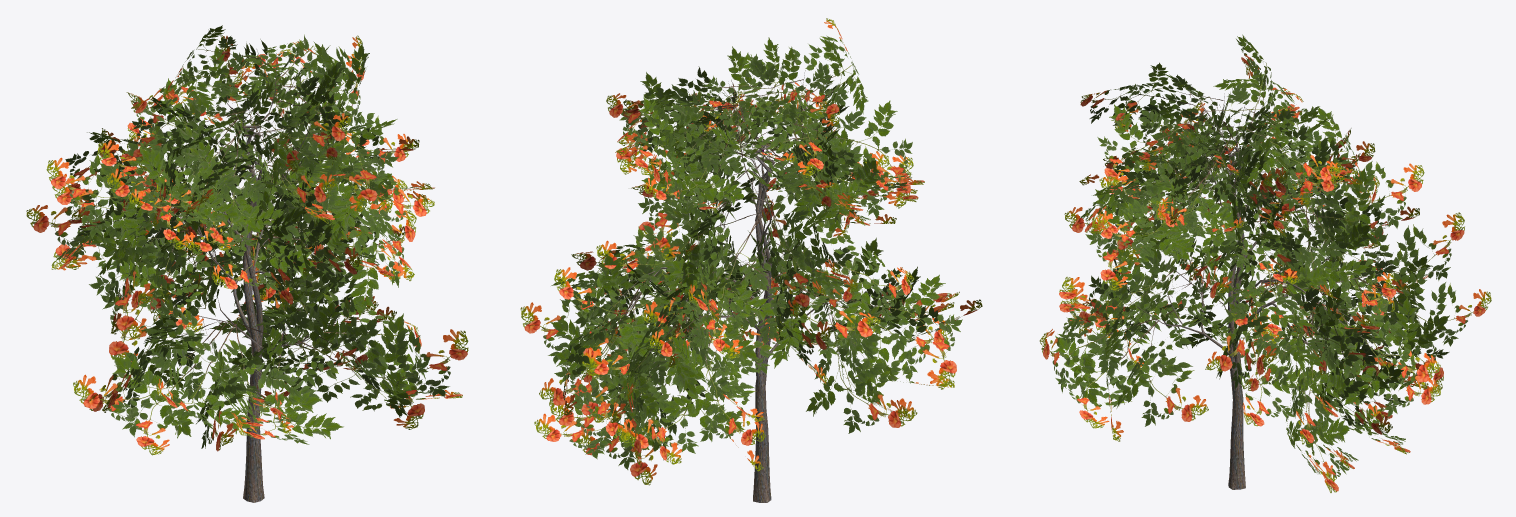
Rendered from ChineseTrumpetVine_2.fbx.
3 renders of one model, left to right at view 1: azimuth 30°, elevation 25°; view 2: azimuth 150°, elevation 25°; view 3: azimuth 270°, elevation 25°, orthographic. The views are drawn at different scales.
Visible parts, largest first — view 1: ChineseTrumpetVine_2; view 2: ChineseTrumpetVine_2; view 3: ChineseTrumpetVine_2.
Part boxes in pixels (<box>): ChineseTrumpetVine_2: <box>26,25,468,502</box>; ChineseTrumpetVine_2: <box>520,18,982,502</box>; ChineseTrumpetVine_2: <box>1039,34,1491,492</box>.
Size of the model in its own units: 283 by 342 by 328.
